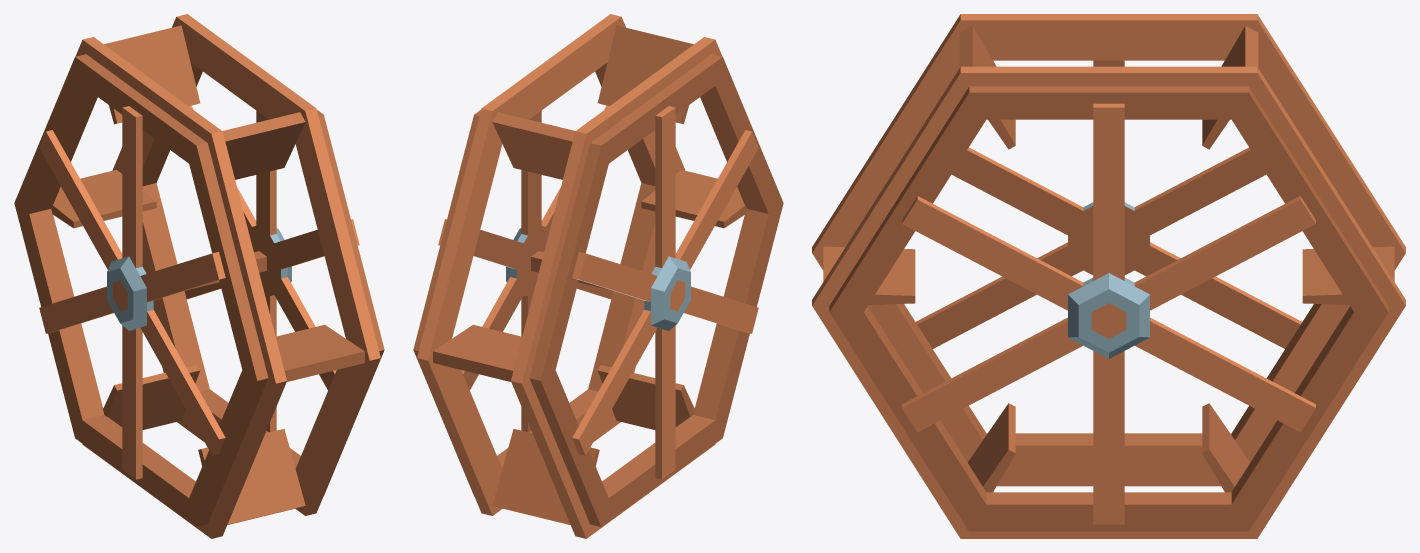
File: watermill.obj
3 renders of one model, left to right at view 1: azimuth 30°, elevation 25°; view 2: azimuth 150°, elevation 25°; view 3: azimuth 270°, elevation 25°, orthographic. The views are drawn at different scales.
Parts seen in each view (by area): view 1: watermill, paddle; view 2: watermill, paddle; view 3: watermill, paddle.
Part boxes in pixels (<box>): watermill: <box>14,14,384,538</box>; paddle: <box>51,25,364,524</box>; watermill: <box>413,14,783,538</box>; paddle: <box>433,25,746,524</box>; watermill: <box>812,14,1405,538</box>; paddle: <box>823,26,1394,492</box>.
Size of the model in its own units: 0.71 by 1.73 by 2.
